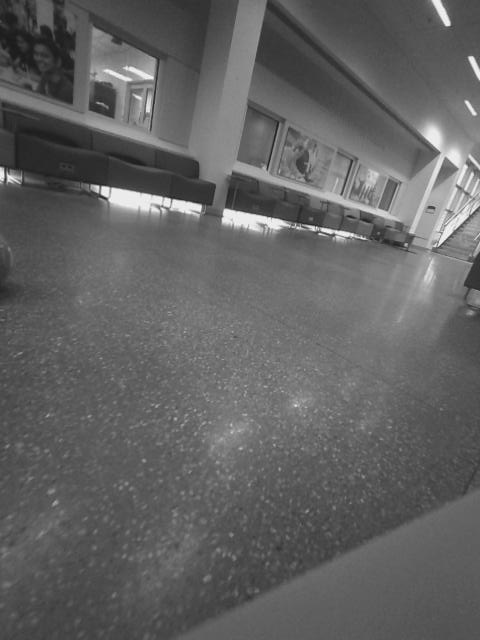ball: (93, 217, 143, 260)
